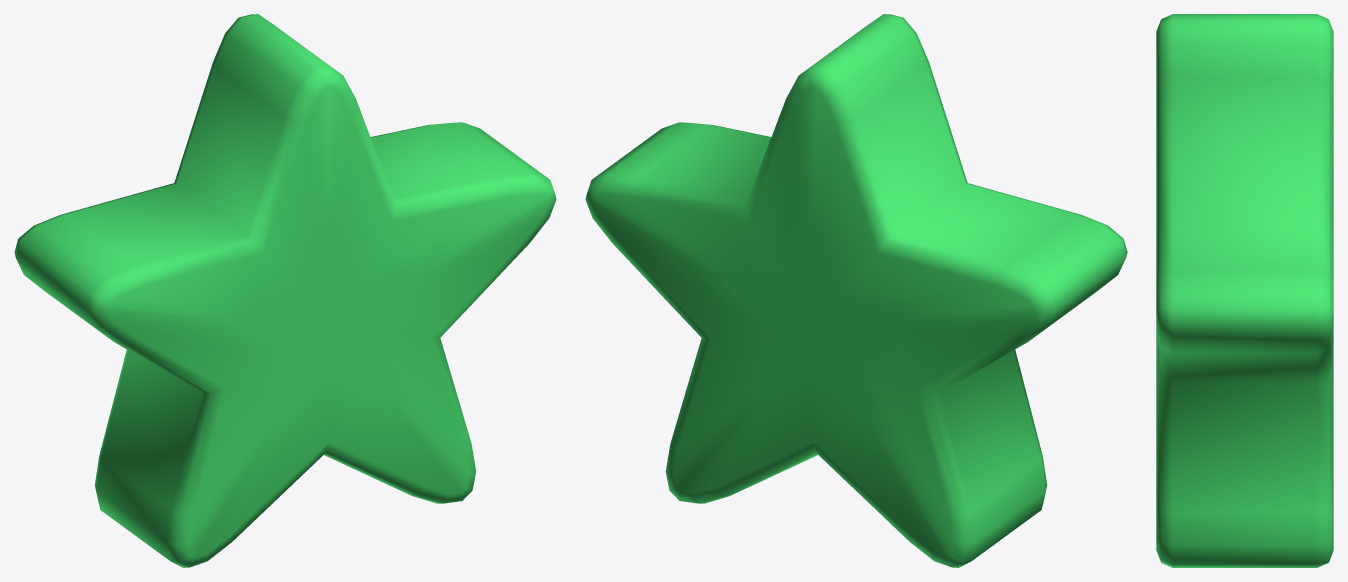
Rendered from star1.fbx.
3 views of the same model, side by side, from view 1: azimuth 30°, elevation 25°; view 2: azimuth 150°, elevation 25°; view 3: azimuth 270°, elevation 25° (orthographic). The views are drawn at different scales.
Parts seen in each view (by area): view 1: Circle.008; view 2: Circle.008; view 3: Circle.008.
Part boxes in pixels (x1,y1,x2,y2): Circle.008: (14,14,556,567); Circle.008: (585,14,1127,567); Circle.008: (1156,14,1333,567).
Size of the model in its own units: 0.354 by 0.3366 by 0.1124.
